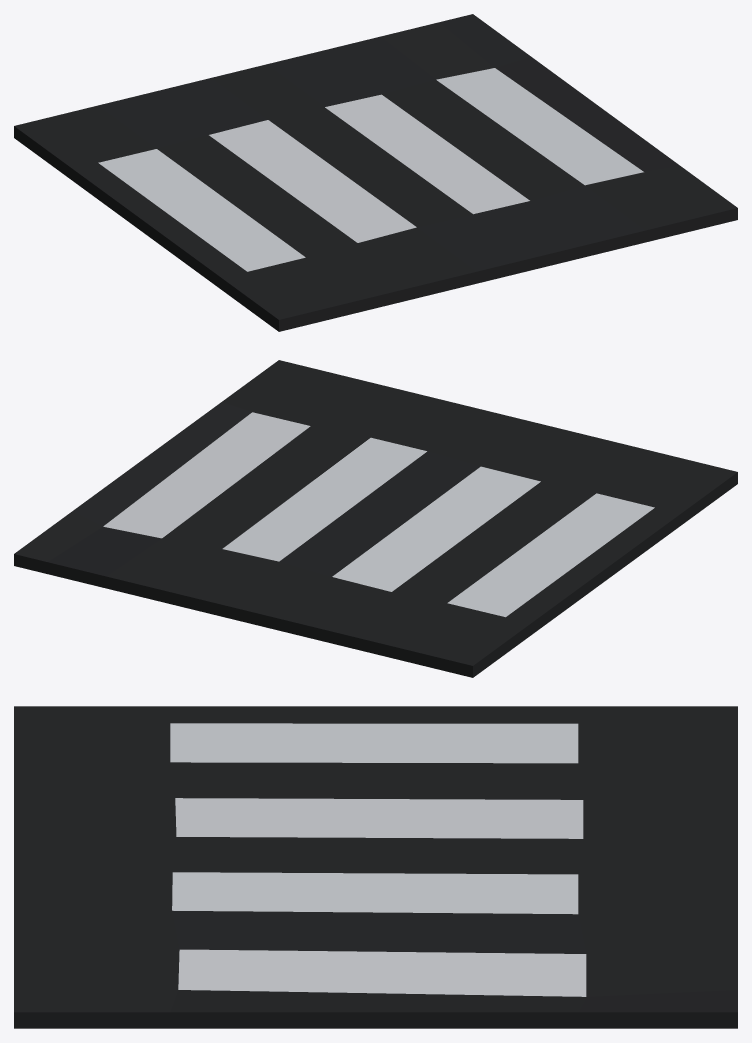
File: Road_007-col.glb
3 renders of one model, top to bottom at view 1: azimuth 30°, elevation 25°; view 2: azimuth 150°, elevation 25°; view 3: azimuth 270°, elevation 25°, orthographic. The views are drawn at different scales.
Visible parts, largest first — view 1: Road_01_D-col; view 2: Road_01_D-col; view 3: Road_01_D-col.
Boxes of the visible parts, <box> form: Road_01_D-col: <box>14,14,737,331</box>; Road_01_D-col: <box>14,360,737,677</box>; Road_01_D-col: <box>14,706,737,1028</box>.
Size of the model in its own units: 2 by 0.0569 by 2.
1 material, 1 textured.
